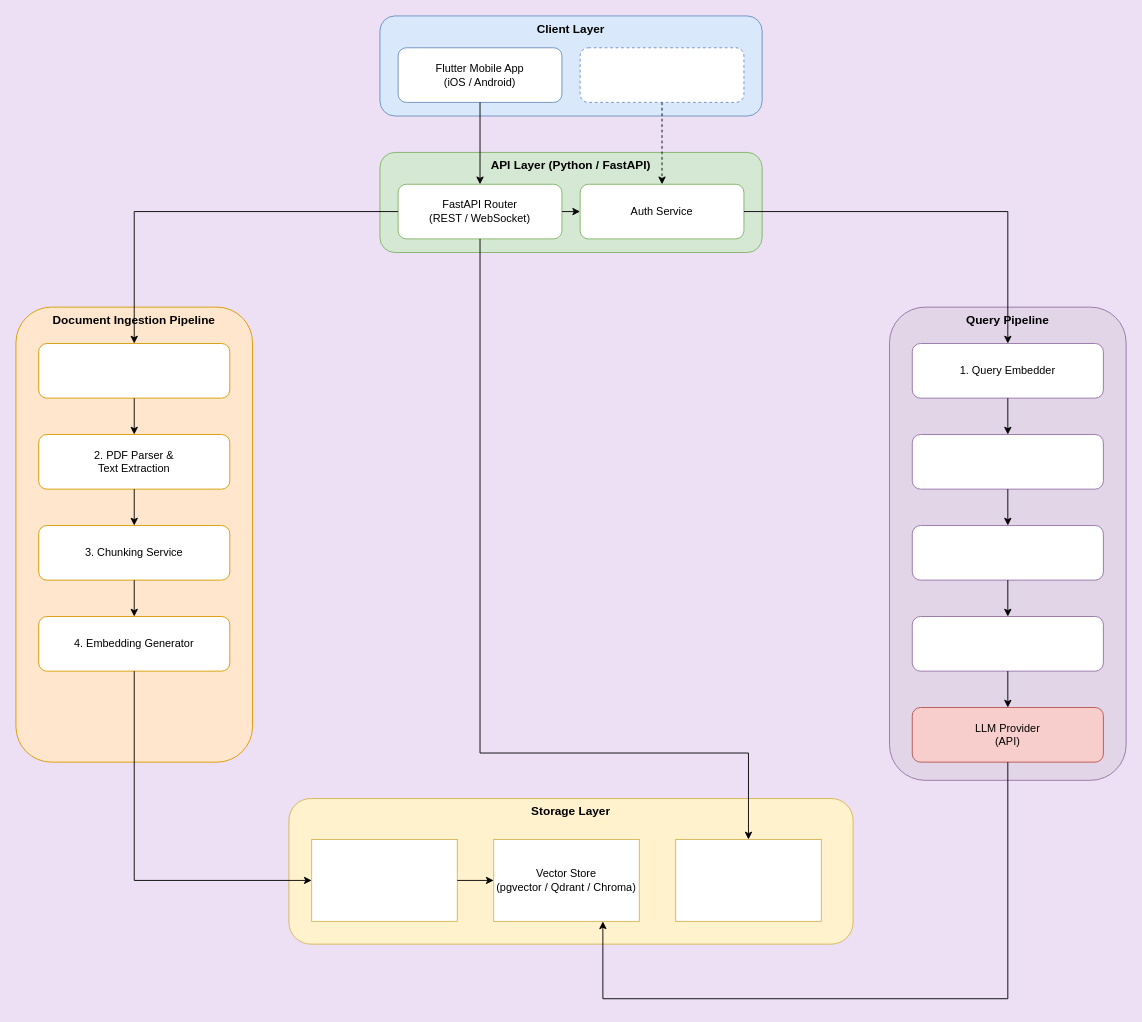
Image size: 1142x1022. Some labels were removed from this diagram. Each missing label, with the centre of its shape:
1. Upload Handler (PDF intake): point (134, 370)
2. Retriever (similarity search): point (1007, 461)
3. Prompt Assembler: point (1007, 552)
4. LLM Client (completion/streaming): point (1007, 643)
Flutter Web App (later): point (661, 74)
Object Storage (raw PDF files): point (384, 880)
Relational DB (users, docs, metadata, chat history): point (748, 880)
